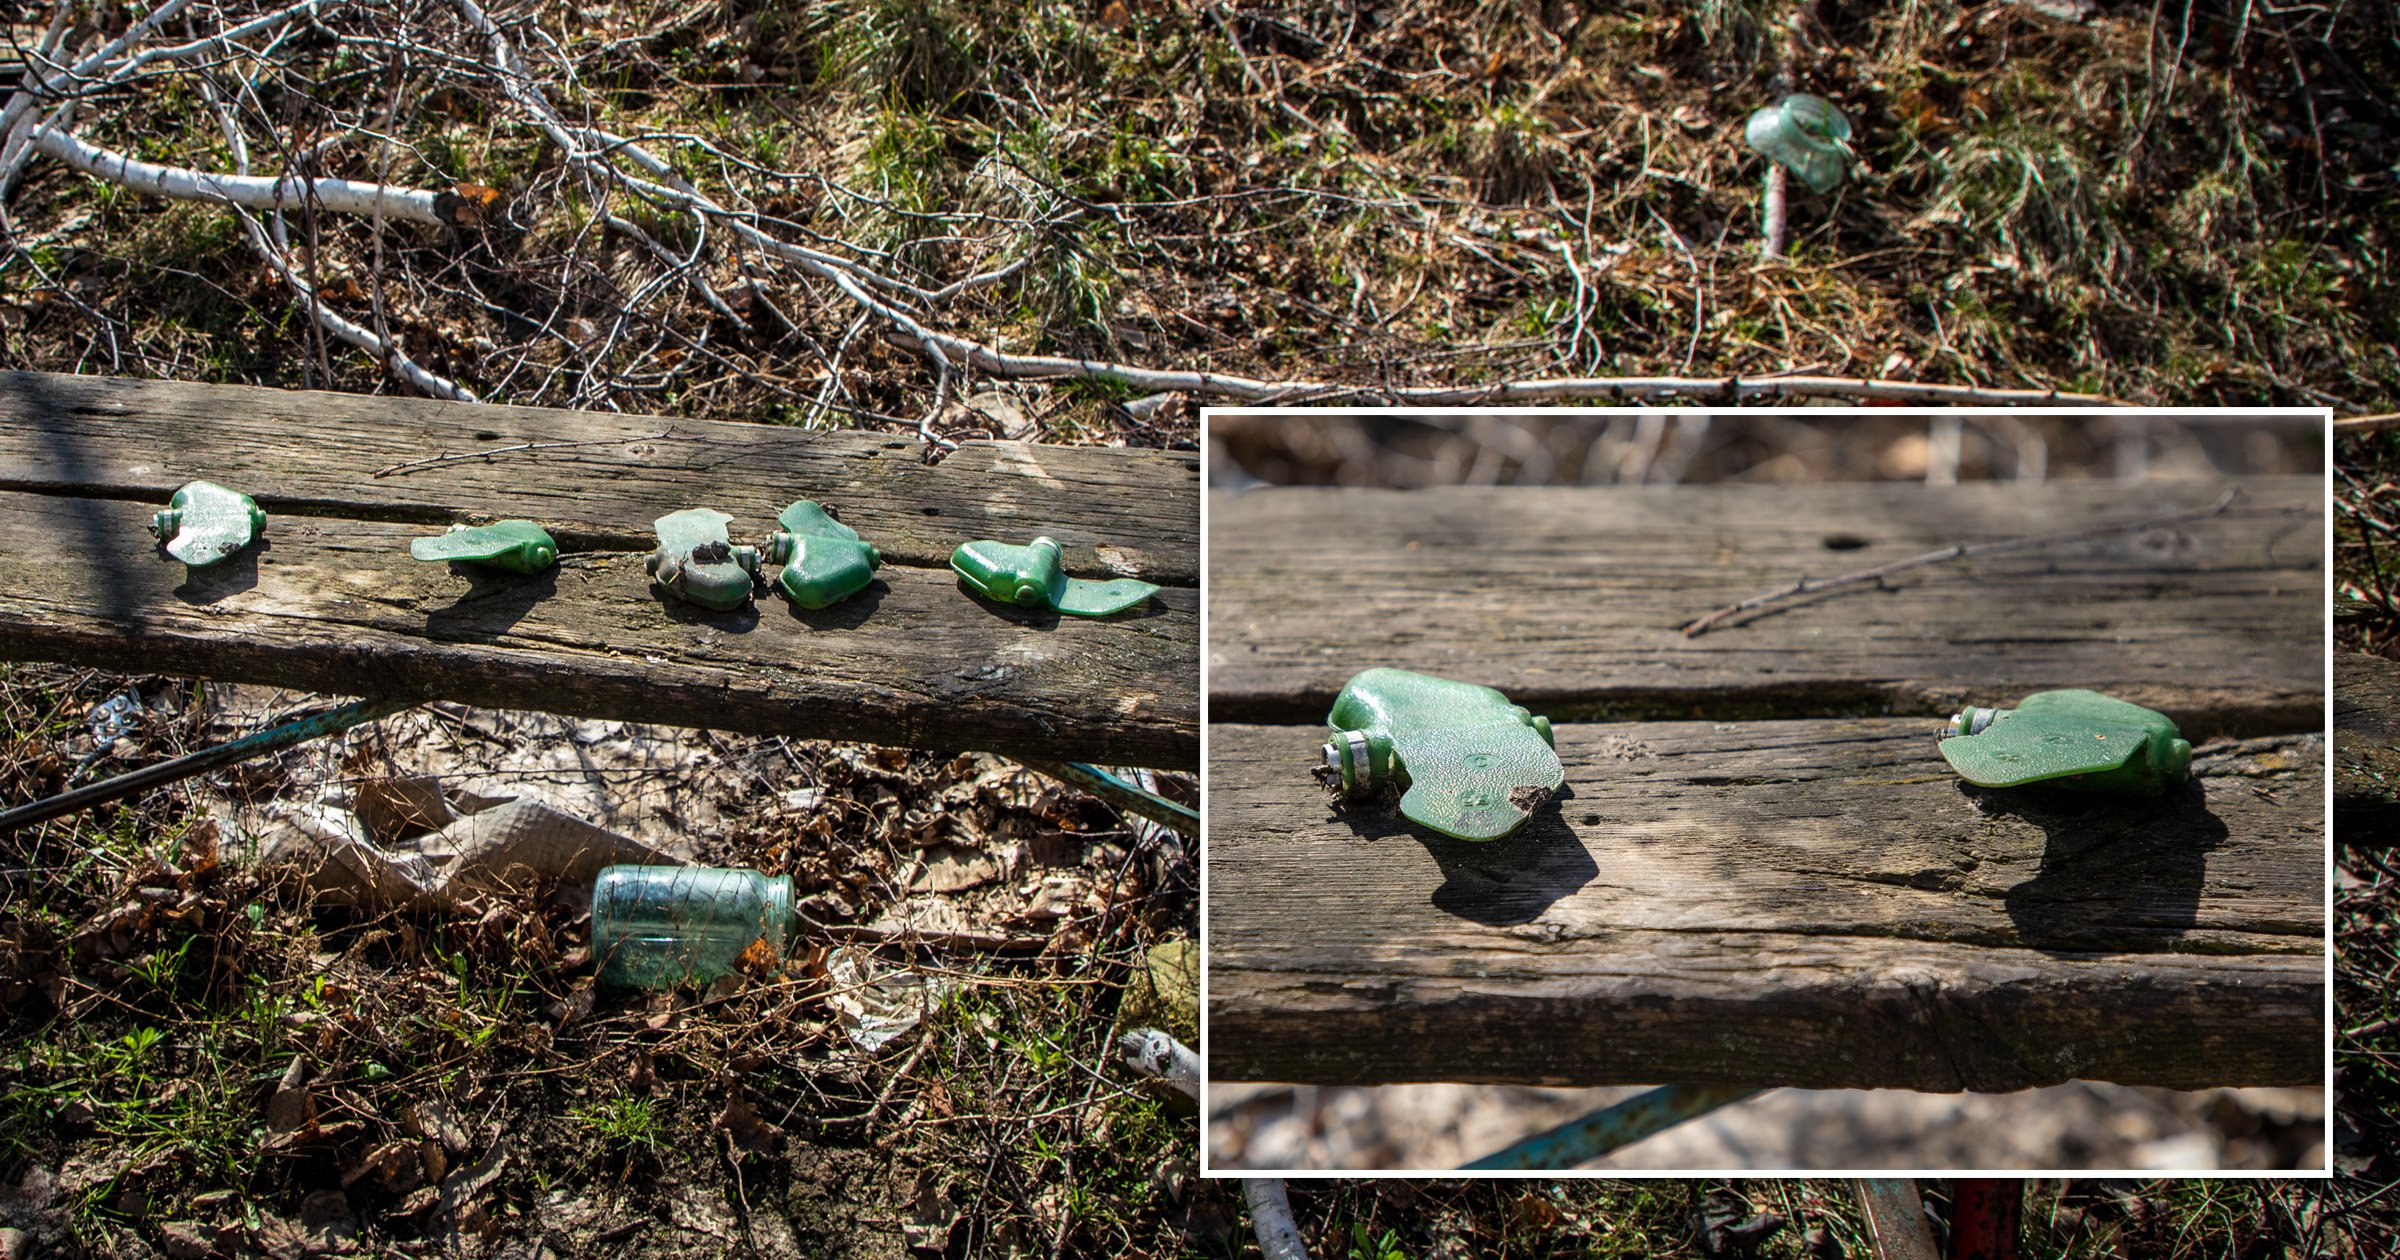butterfly: (1310, 647, 1575, 871), (1921, 673, 2221, 838), (946, 513, 1171, 643), (768, 482, 898, 616), (413, 495, 568, 592), (159, 471, 289, 576)
